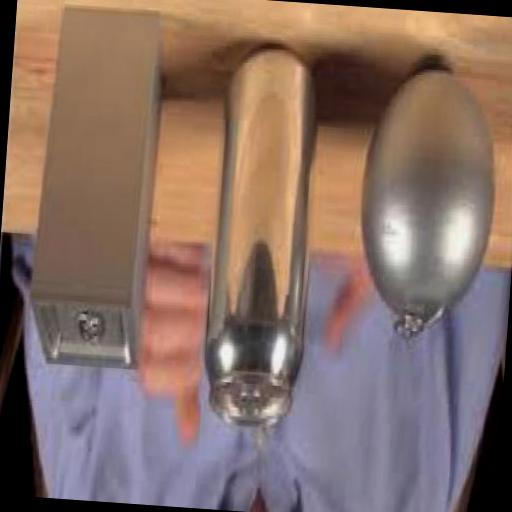metal: (28, 4, 168, 376), (202, 40, 327, 430), (354, 54, 507, 352)
